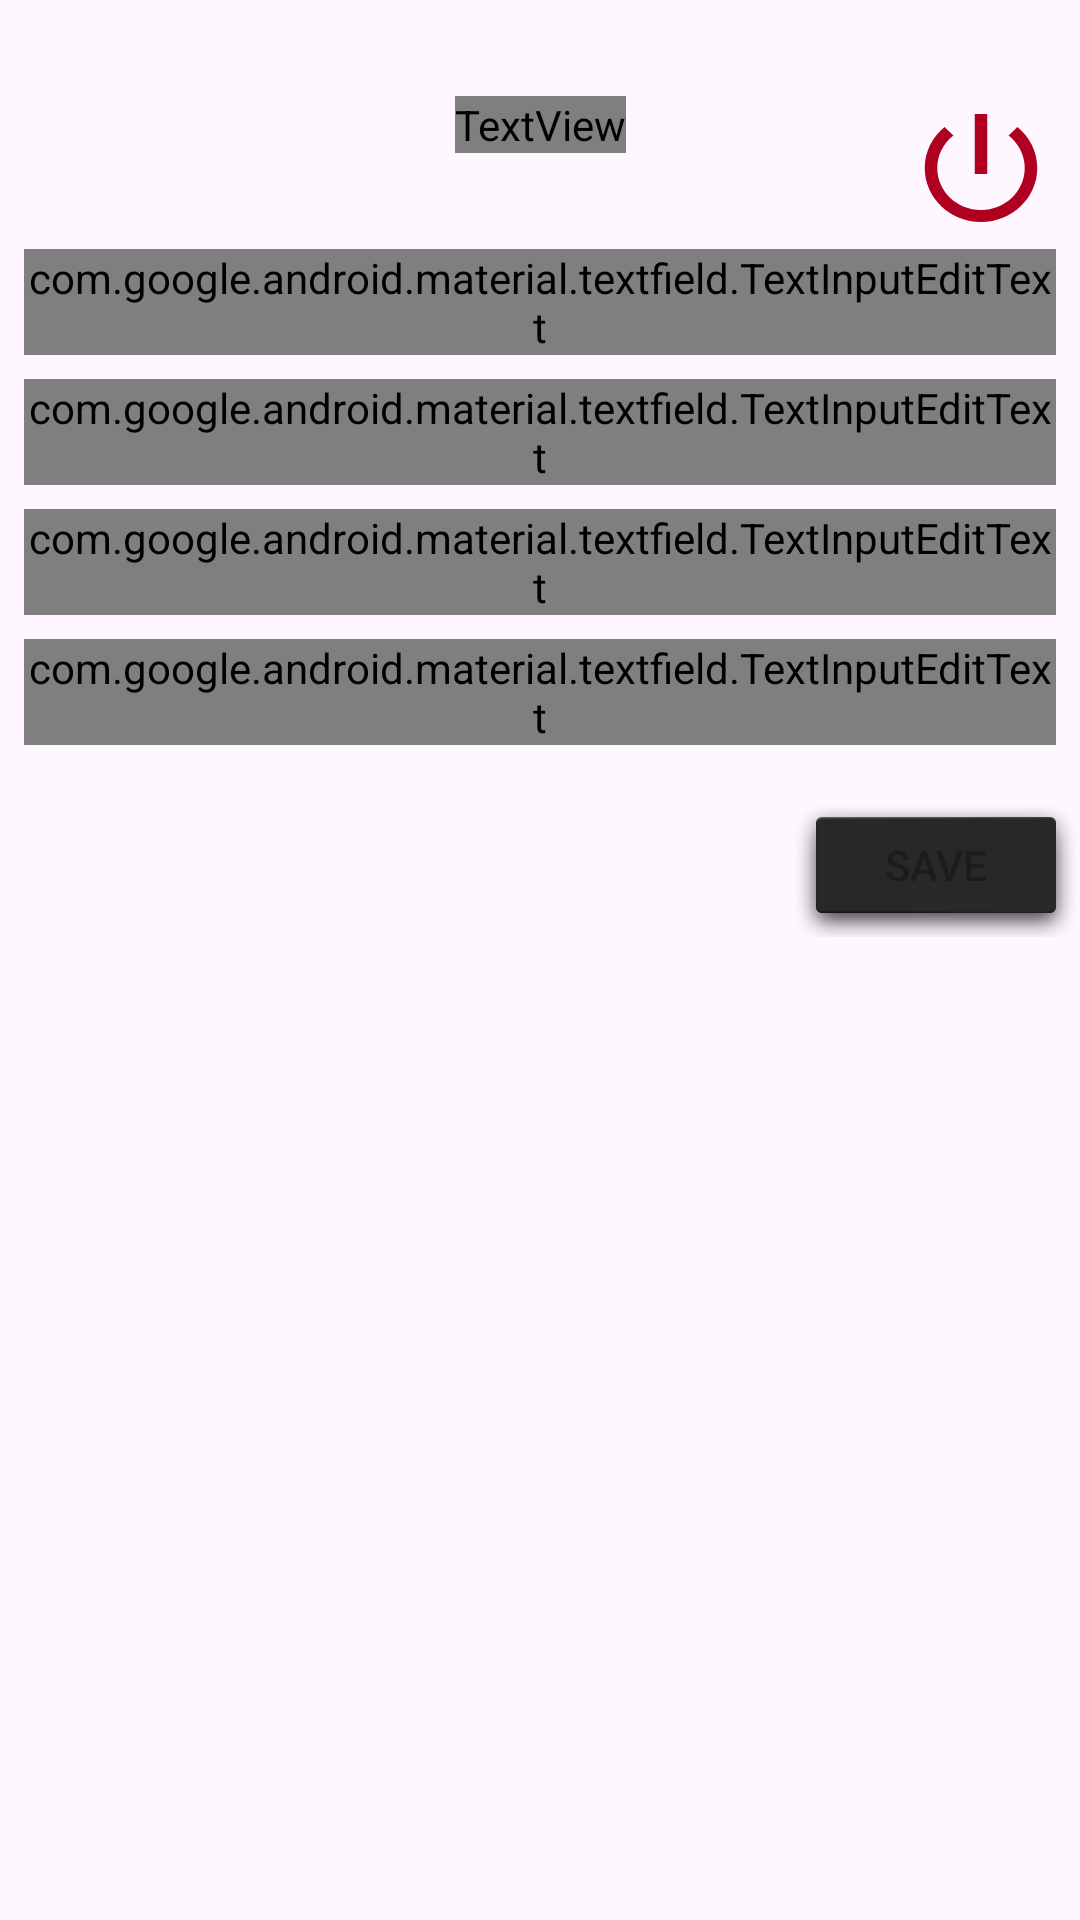

Named icons in this screenshot (1080×1920) and their bounding boxes, (x1, y1, x2, y2):
power settings: (924, 114, 1038, 222)
